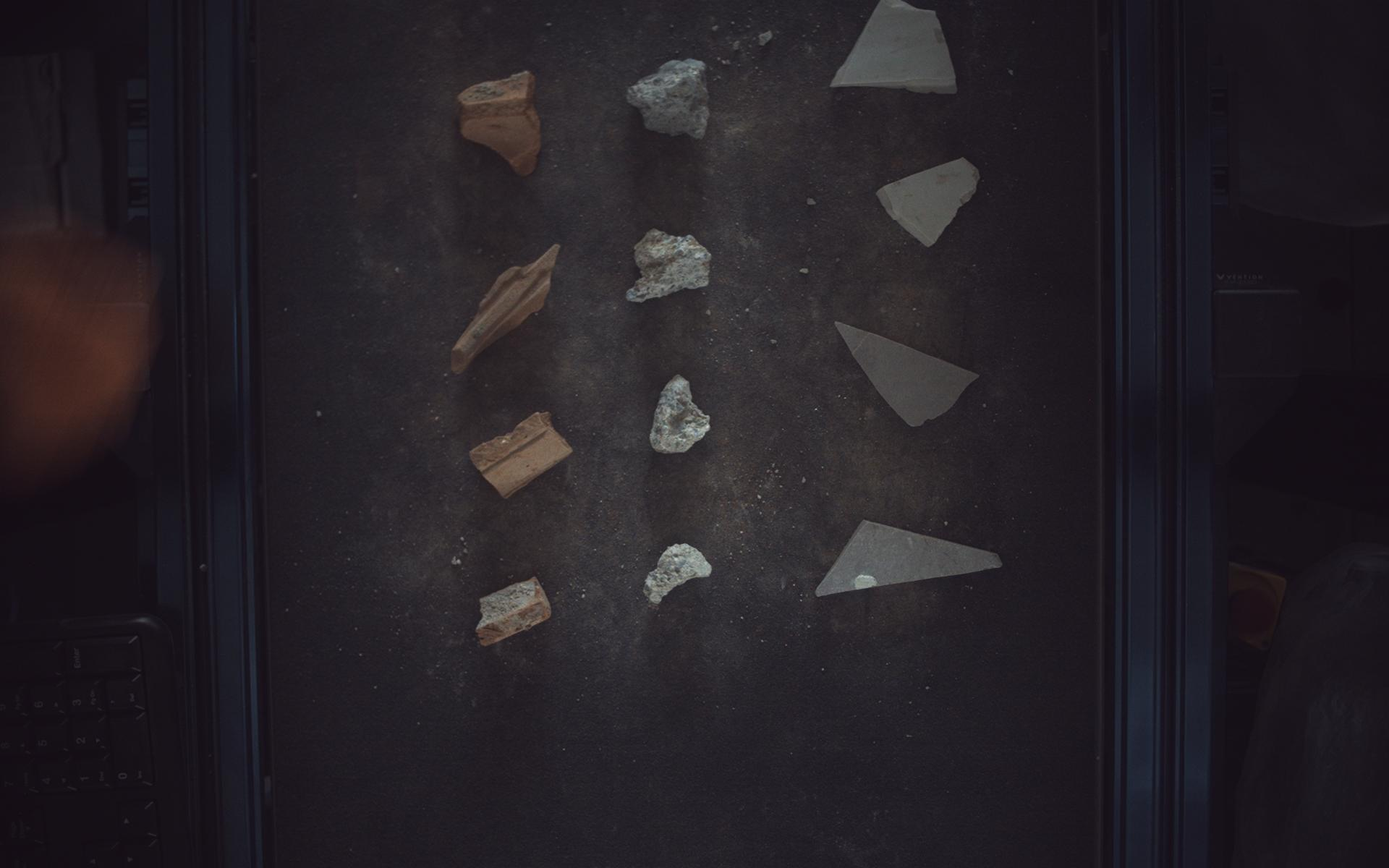brick: (451, 244, 561, 373), (457, 70, 541, 176), (470, 412, 572, 498), (476, 577, 551, 647)
concrete: (628, 57, 710, 138), (626, 229, 713, 302), (651, 375, 710, 454), (645, 545, 713, 605)
tile: (838, 322, 980, 427), (817, 521, 1004, 597), (832, 1, 959, 93), (878, 156, 982, 246)
